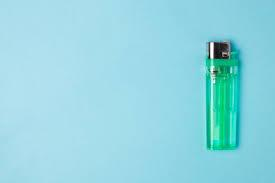lighter: (208, 38, 243, 150)
